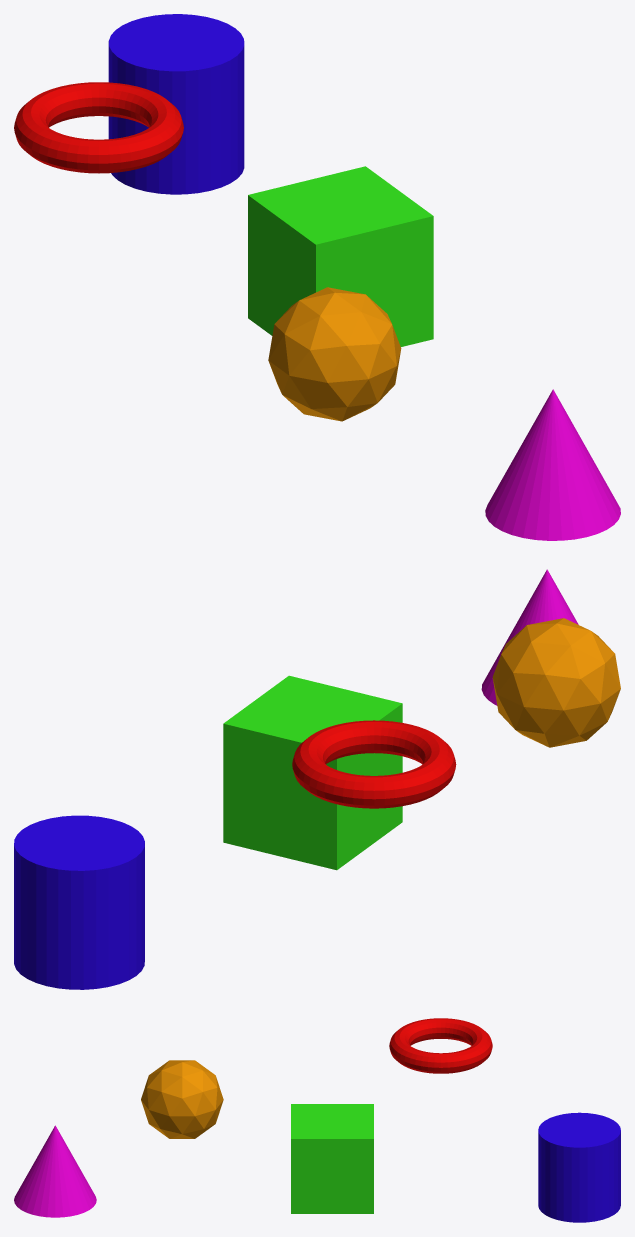
The model's file is pickable.glb.
The picture shows the model from 3 angles, top to bottom: view 1: azimuth 30°, elevation 25°; view 2: azimuth 150°, elevation 25°; view 3: azimuth 270°, elevation 25°; orthographic projection. The views are drawn at different scales.
Parts seen in each view (by area): view 1: pickable_1, pickable_4, pickable_2, pickable_3, pickable_5; view 2: pickable_1, pickable_4, pickable_2, pickable_5, pickable_3; view 3: pickable_1, pickable_4, pickable_2, pickable_3, pickable_5.
Part boxes in pixels (x1,y1,x2,y2): pickable_1: [248, 166, 433, 346]; pickable_4: [108, 14, 244, 194]; pickable_2: [268, 287, 401, 421]; pickable_3: [485, 389, 620, 540]; pickable_5: [14, 82, 183, 173]; pickable_1: [223, 675, 402, 870]; pickable_4: [14, 815, 144, 989]; pickable_2: [492, 618, 620, 747]; pickable_5: [292, 720, 456, 808]; pickable_3: [481, 569, 578, 705]; pickable_1: [291, 1104, 373, 1213]; pickable_4: [538, 1112, 620, 1222]; pickable_2: [141, 1060, 223, 1138]; pickable_3: [14, 1125, 96, 1217]; pickable_5: [389, 1018, 492, 1073].
Size of the model in its own units: 5.5 by 3.27 by 14.66.
